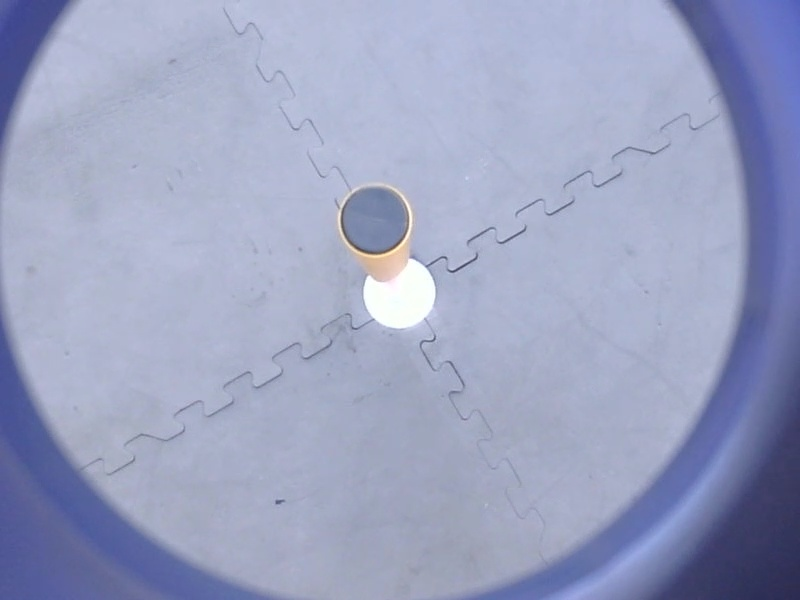tip: (333, 177, 419, 265)
